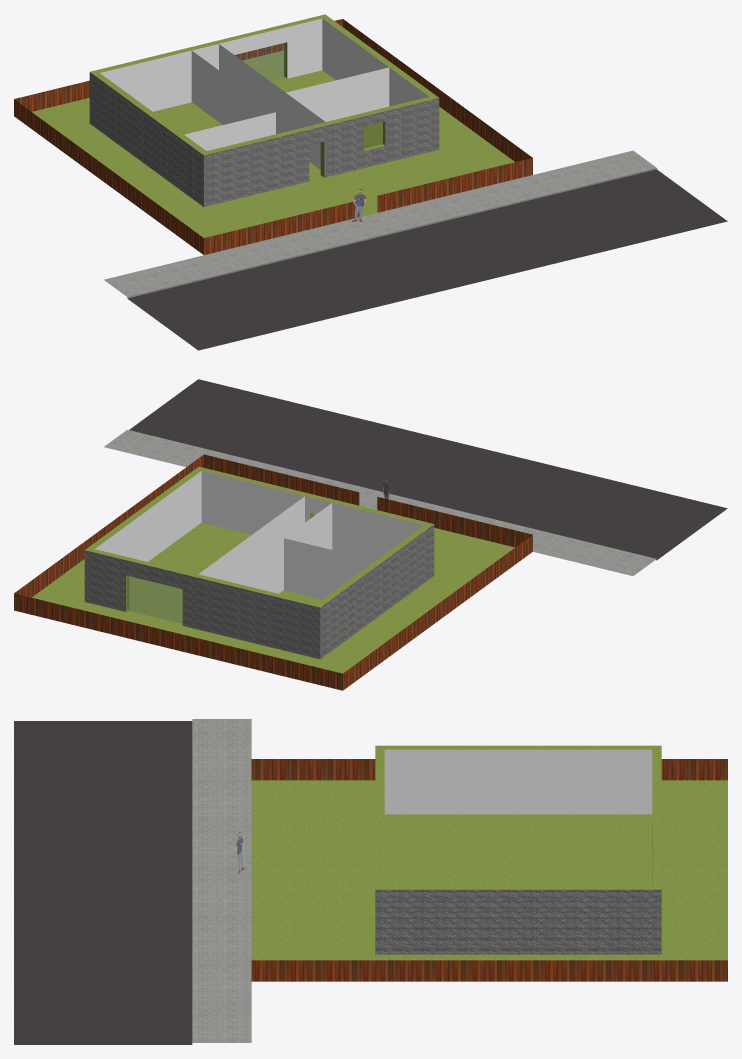
Rendered from GruppeD.glb.
The picture shows the model from 3 angles, top to bottom: view 1: azimuth 30°, elevation 25°; view 2: azimuth 150°, elevation 25°; view 3: azimuth 270°, elevation 25°; orthographic projection. The views are drawn at different scales.
Parts seen in each view (by area): view 1: ID465, ID499, ID532, ID452, SketchUp, ID512, ID520, ID526, ID491, ID478, ID556, ID548; view 2: ID465, ID499, SketchUp, ID512, ID532, ID452, ID526, ID478, ID491, ID520, ID556; view 3: ID465, ID532, ID478, ID452, ID499, ID512, SketchUp, ID491.
Part boxes in pixels (bbox=[...]): ID465: bbox=[127, 169, 727, 350]; ID499: bbox=[89, 72, 439, 206]; ID532: bbox=[32, 50, 514, 237]; ID452: bbox=[104, 150, 656, 298]; SketchUp: bbox=[14, 19, 532, 254]; ID512: bbox=[100, 18, 428, 111]; ID520: bbox=[219, 44, 389, 169]; ID526: bbox=[184, 51, 297, 150]; ID491: bbox=[90, 14, 438, 155]; ID478: bbox=[153, 42, 335, 177]; ID556: bbox=[235, 43, 285, 80]; ID548: bbox=[363, 121, 385, 150]; ID465: bbox=[129, 379, 727, 560]; ID499: bbox=[84, 524, 434, 659]; SketchUp: bbox=[14, 454, 532, 690]; ID512: bbox=[95, 471, 423, 561]; ID532: bbox=[32, 514, 514, 673]; ID452: bbox=[104, 429, 656, 575]; ID526: bbox=[226, 503, 375, 599]; ID478: bbox=[126, 522, 322, 623]; ID491: bbox=[85, 466, 433, 607]; ID520: bbox=[198, 496, 304, 580]; ID556: bbox=[128, 576, 182, 623]; ID465: bbox=[14, 721, 192, 1044]; ID532: bbox=[251, 780, 727, 960]; ID478: bbox=[384, 814, 652, 885]; ID452: bbox=[192, 719, 251, 1042]; ID499: bbox=[375, 889, 661, 954]; ID512: bbox=[384, 749, 652, 814]; SketchUp: bbox=[251, 759, 727, 981]; ID491: bbox=[375, 745, 661, 889].
Size of the model in its own units: 32.2 by 3.1 by 29.98.
79 materials, 9 textured.
